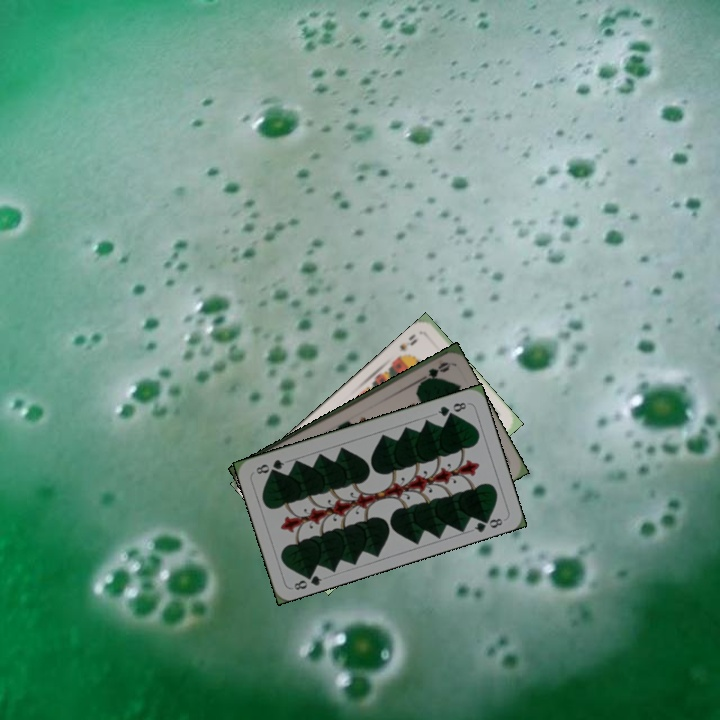G8: (290, 568, 325, 593), (434, 398, 469, 419)
GO: (413, 358, 452, 388)
S9: (395, 329, 420, 354)
